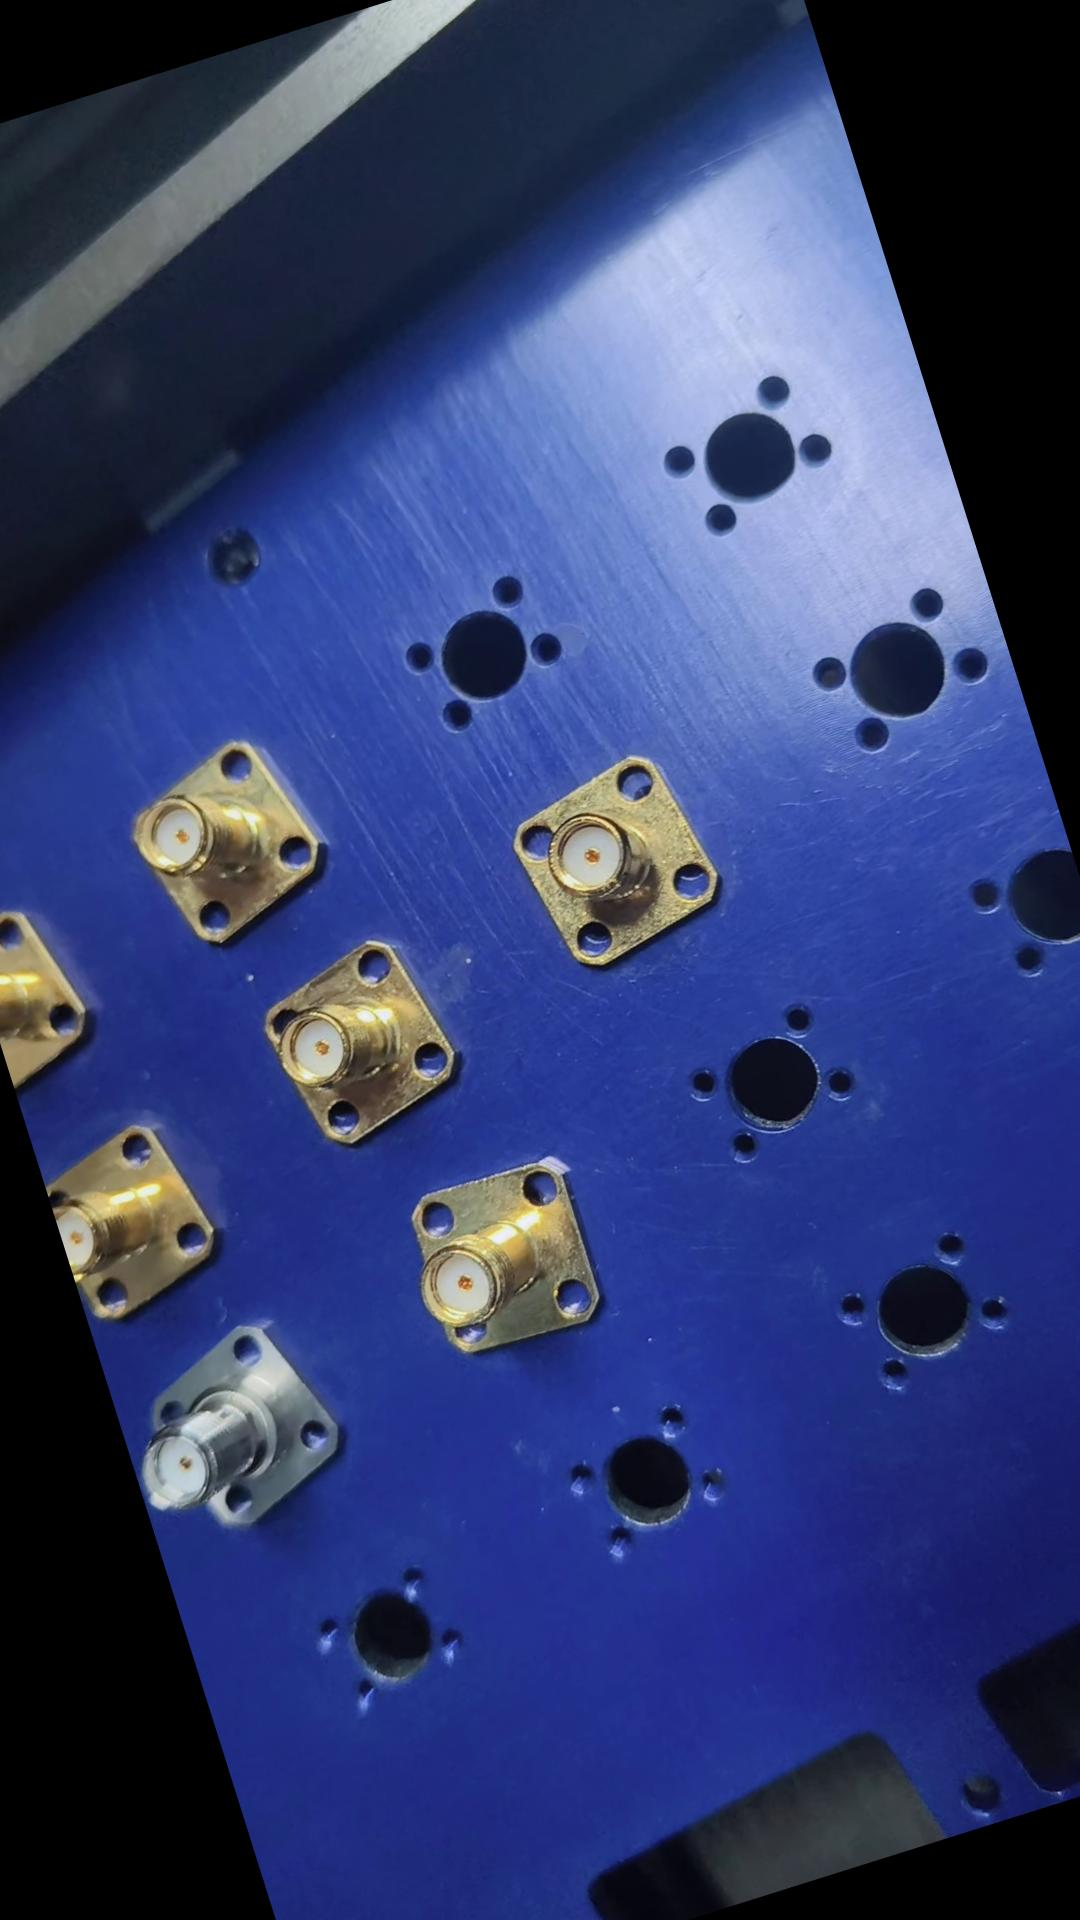SMA: (109, 1298, 367, 1556), (120, 717, 356, 973), (500, 736, 736, 982), (249, 913, 477, 1162), (397, 1143, 625, 1369), (36, 1104, 241, 1327)
